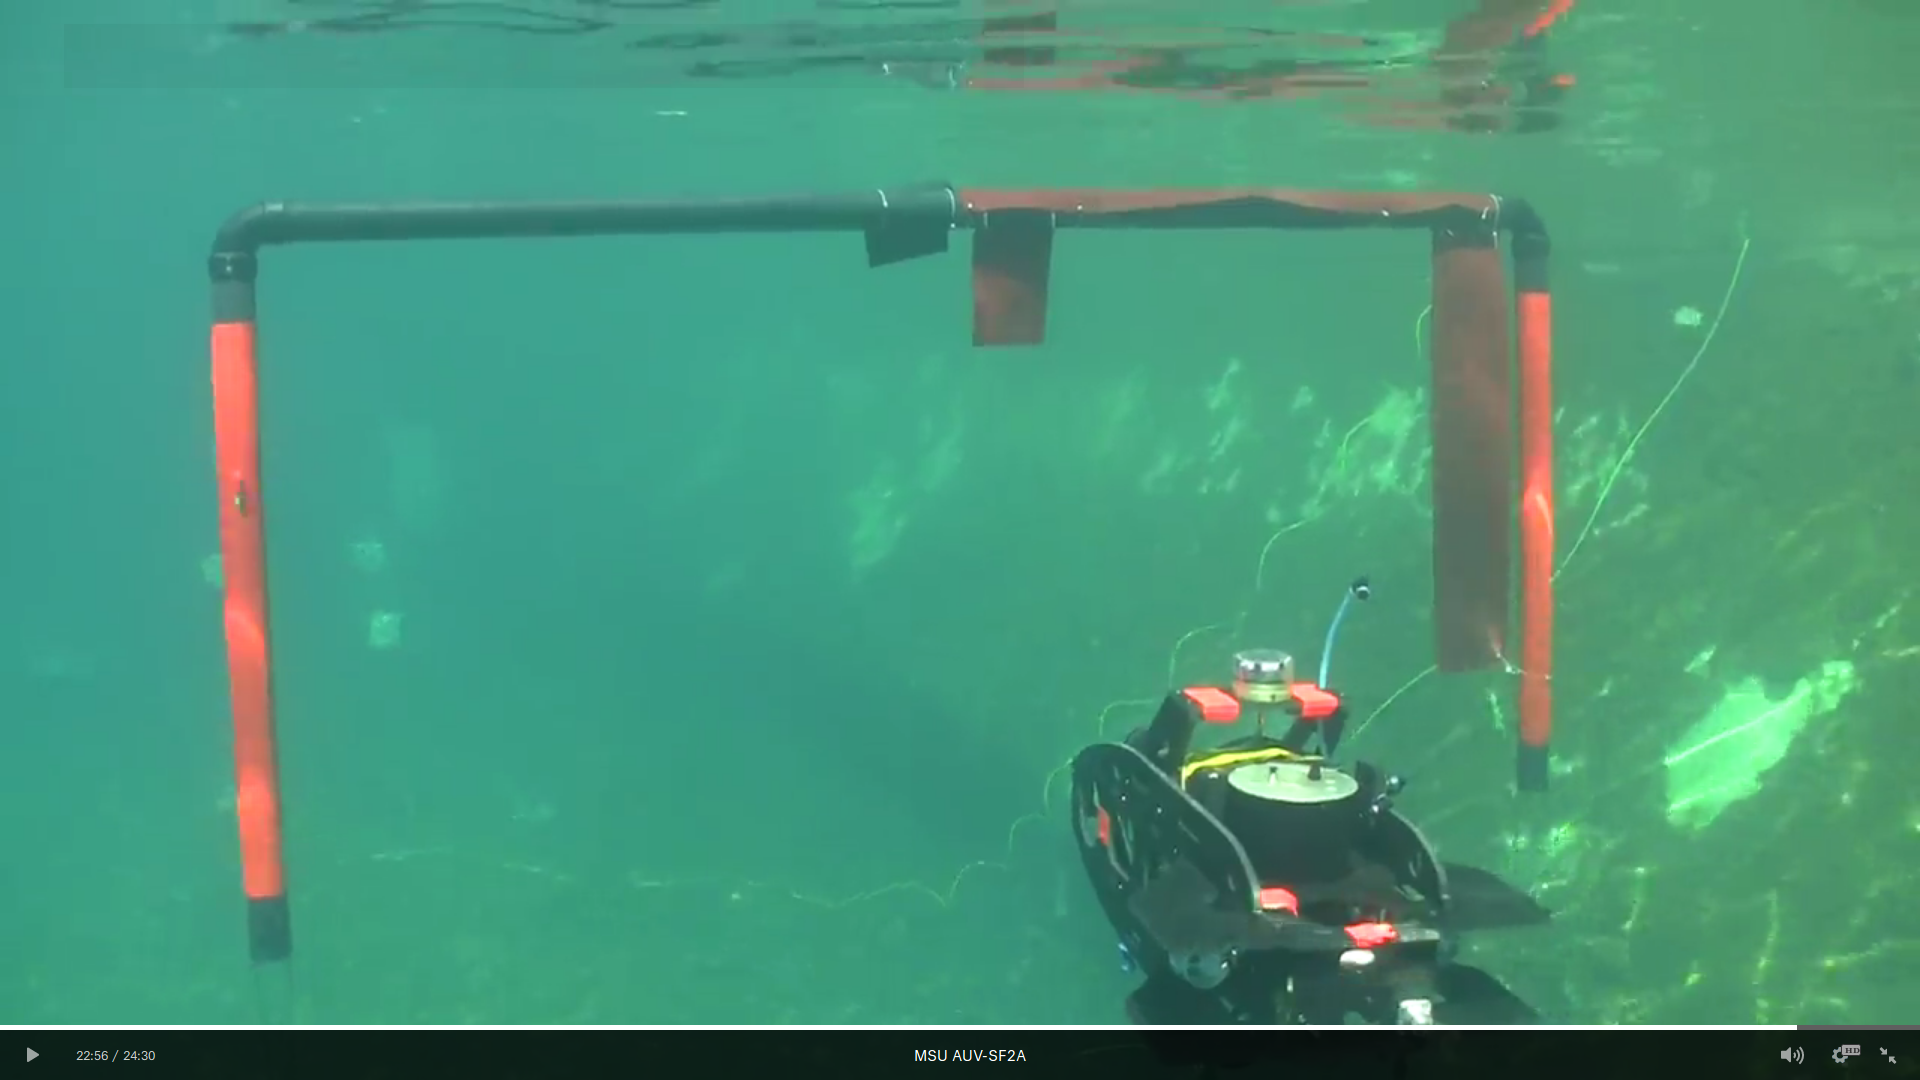gate: (192, 180, 1583, 724)
